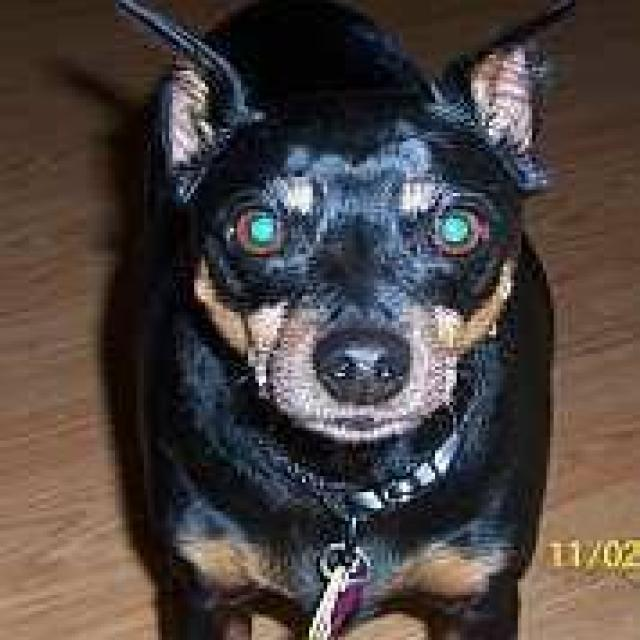dogs: (102, 0, 583, 640)
